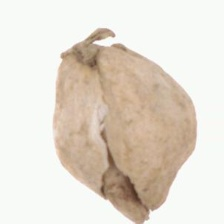L1: (94, 164, 159, 224), (57, 28, 125, 70)
L2: (53, 29, 198, 224)
